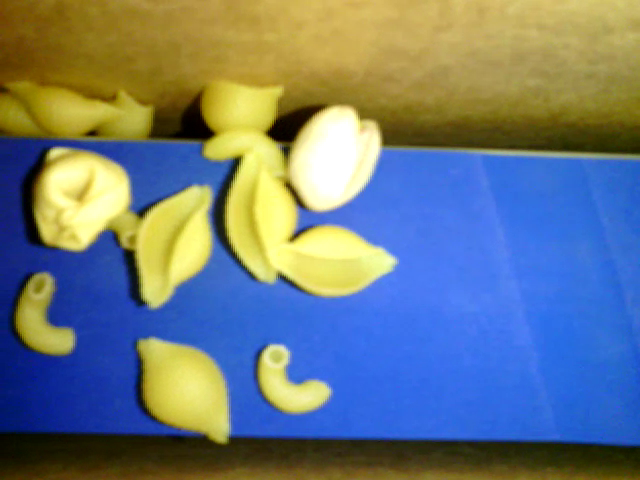elbow: (14, 268, 81, 356), (257, 340, 330, 414), (200, 128, 286, 186), (103, 207, 147, 249)
shell: (267, 218, 406, 301), (134, 335, 230, 446), (132, 182, 212, 309), (221, 152, 299, 282), (3, 80, 123, 139), (202, 81, 284, 141), (90, 88, 159, 143), (1, 93, 57, 147)
tortellini: (37, 147, 130, 251)
